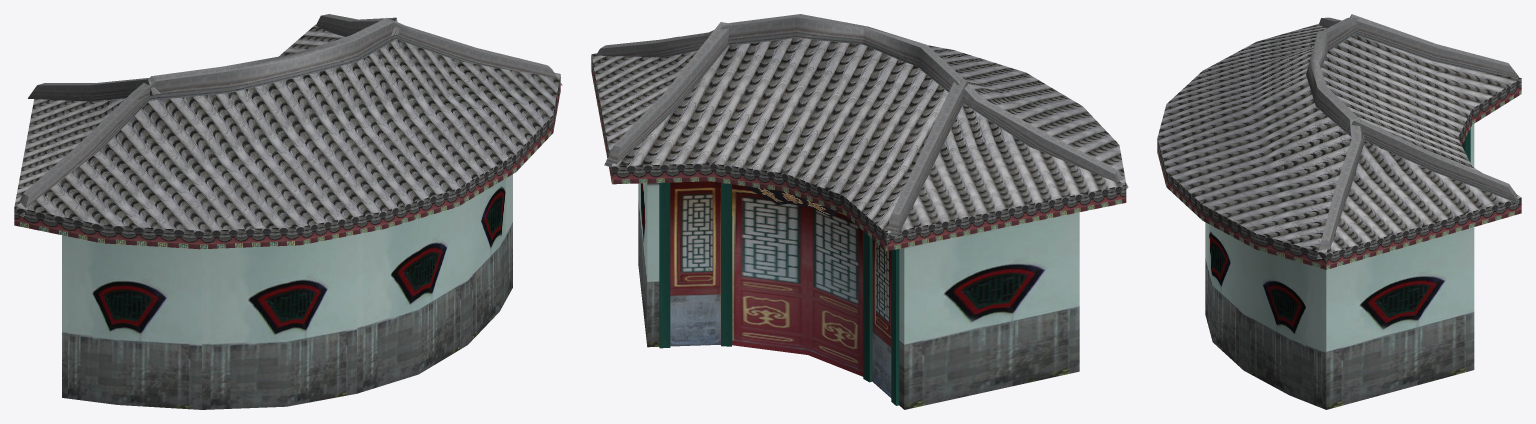
Rendered from BHGY_JZ_QHD_YNX.obj.
3 views of the same model, side by side, from view 1: azimuth 30°, elevation 25°; view 2: azimuth 150°, elevation 25°; view 3: azimuth 270°, elevation 25° (orthographic). The views are drawn at different scales.
Parts seen in each view (by area): view 1: X_23_W_005; view 2: X_23_W_005; view 3: X_23_W_005.
Part boxes in pixels (box(x1,y1,x2,y2)): X_23_W_005: box(14, 14, 562, 409); X_23_W_005: box(591, 14, 1128, 409); X_23_W_005: box(1157, 14, 1521, 409).
Bounding box in the file's own units: 7.62 × 3.9 × 5.05.
4 materials, 4 textured.
